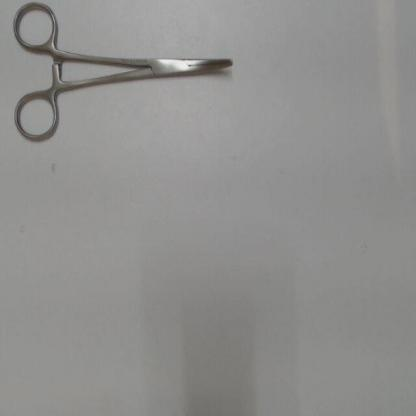Crile Artery Forceps: (11, 0, 240, 143)
